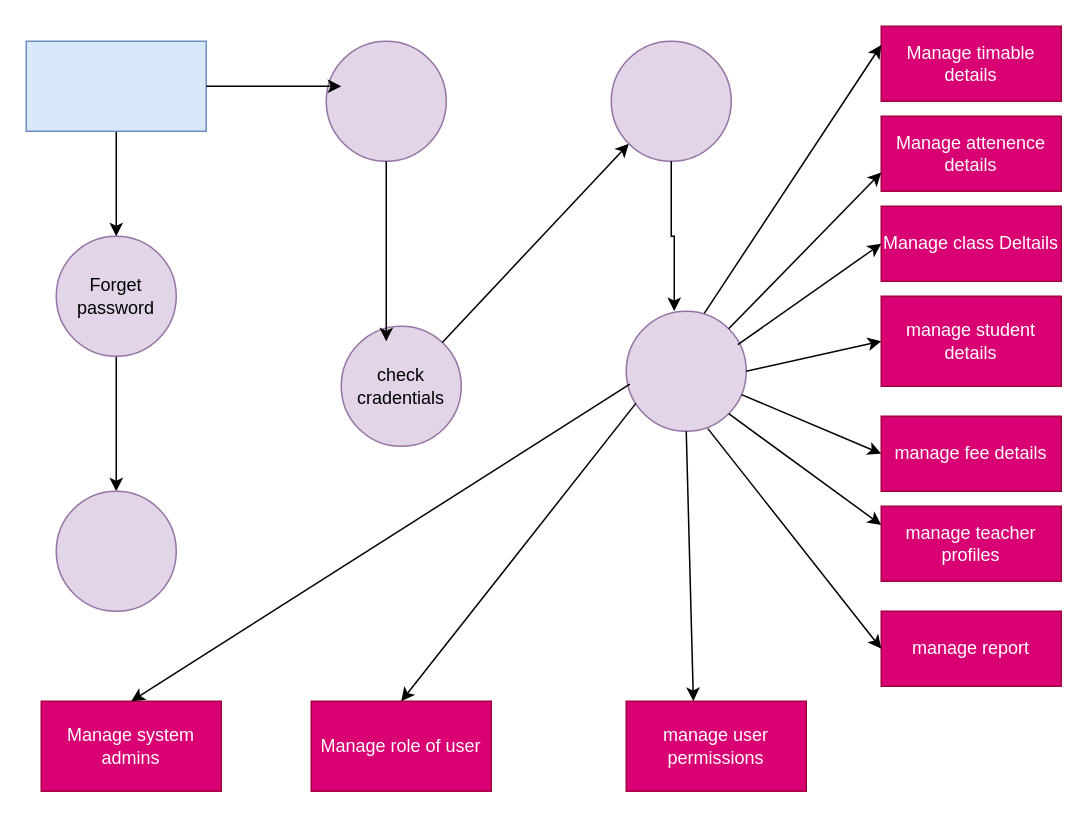
The diagram is 1088 pixels wide and 818 high, and some of its shapes have lost their labels. The shapes that lost their labels are listed below. From the top down, each one's box as (x1, y1, x2, y2) in pixels, then its label:
(25, 40, 206, 131): Admin
(325, 40, 446, 161): login to system
(610, 40, 731, 161): check role of acess
(625, 310, 746, 431): Manage modules
(55, 490, 176, 611): Send Email to user
